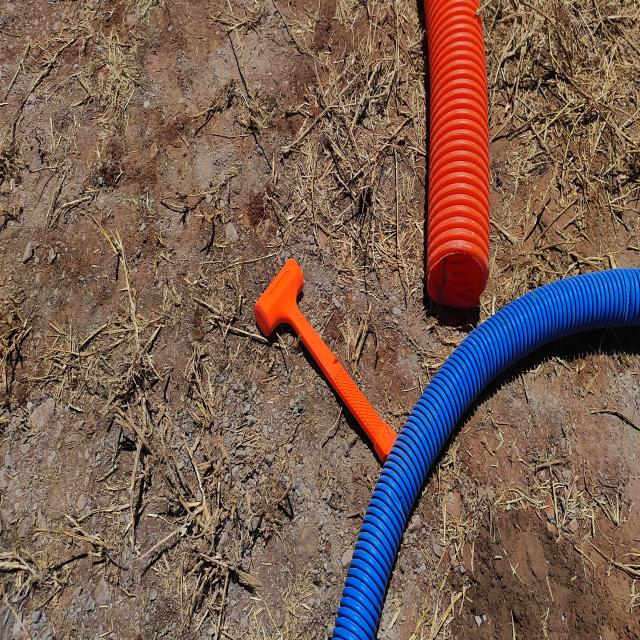Orange_hammer: (255, 252, 395, 467)
